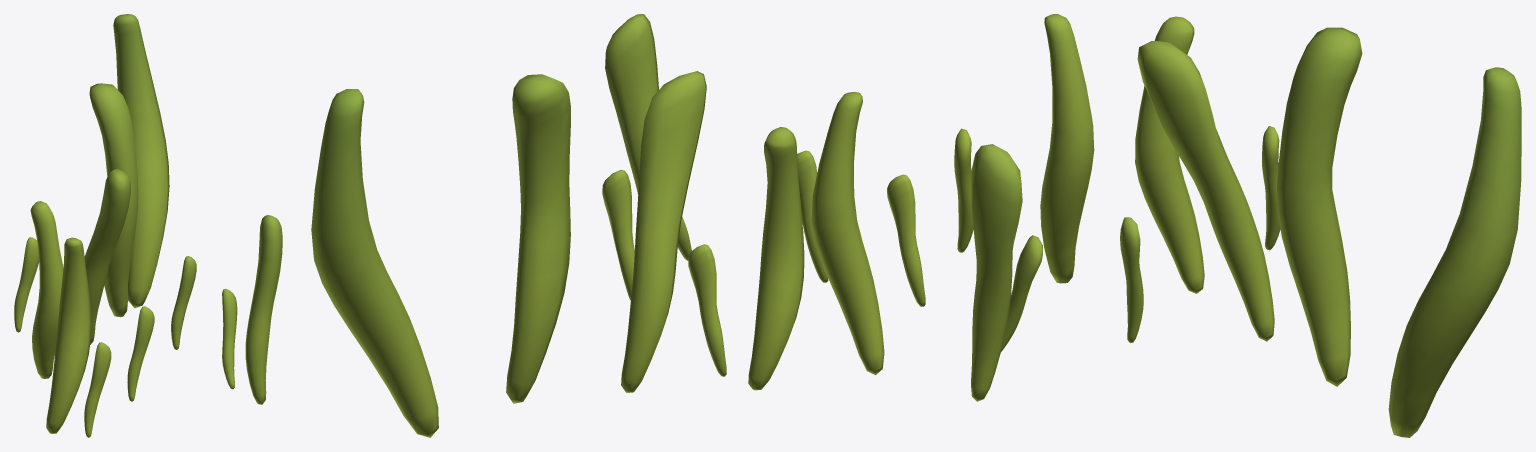
File: sm_coralli_bassi 1.fbx
The picture shows the model from 3 angles, left to right: view 1: azimuth 30°, elevation 25°; view 2: azimuth 150°, elevation 25°; view 3: azimuth 270°, elevation 25°; orthographic projection. The views are drawn at different scales.
Parts seen in each view (by area): view 1: sm_corlalli_bassi; view 2: sm_corlalli_bassi; view 3: sm_corlalli_bassi.
Boxes of the visible parts, x1,y1,x2,y2 form: sm_corlalli_bassi: (14,14,282,437); sm_corlalli_bassi: (311,14,925,437); sm_corlalli_bassi: (954,14,1521,437).
Bounding box in the file's own units: 4.03 × 5.26 × 3.94.
